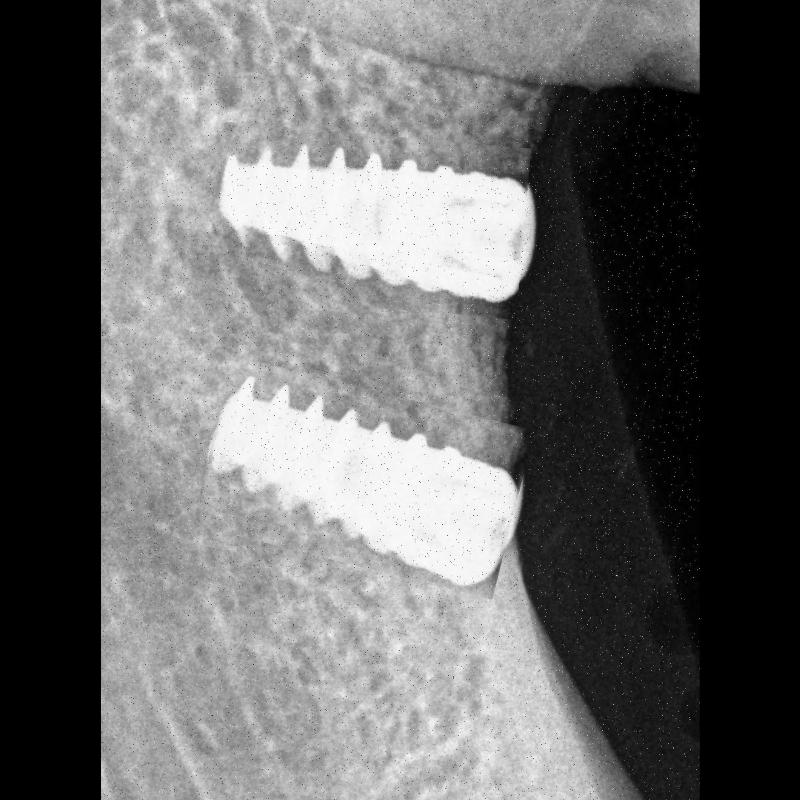ADIN: (200, 374, 526, 582), (209, 128, 527, 312)
